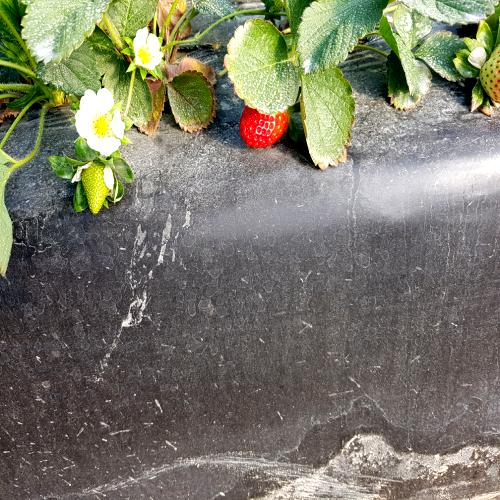ripe: (240, 84, 300, 159)
